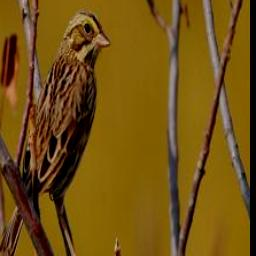Sparrow: (0, 6, 109, 256)
